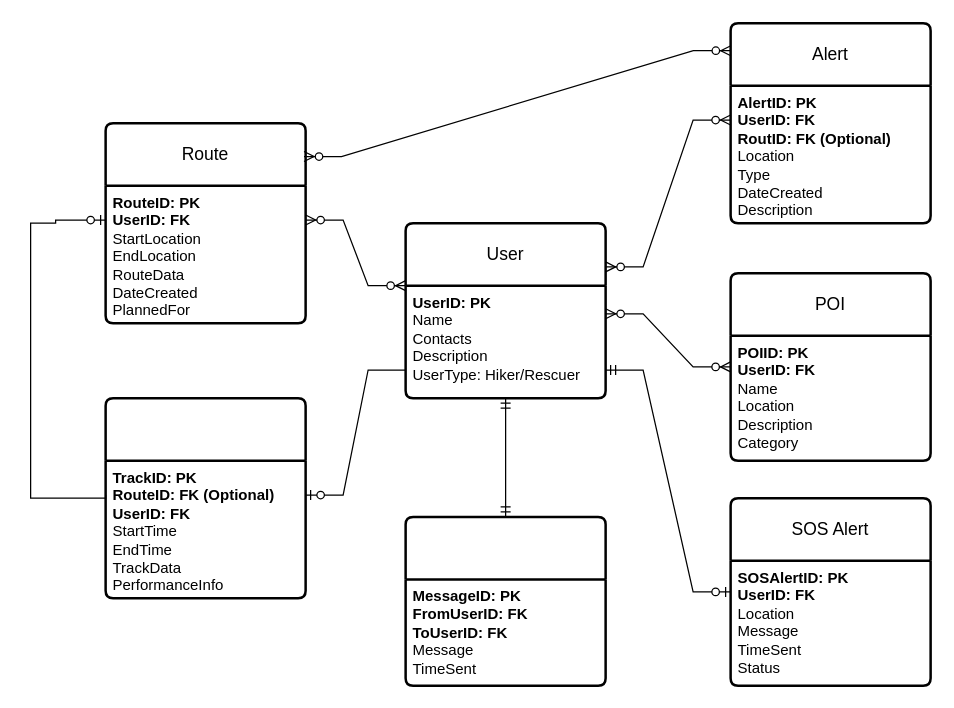
Image size: 954x708. Some labels were removed from this diagram. Here are the shapes that lost their labels. From the top down, the box of each, then its label:
(104, 396, 306, 599): LiveTrack
(404, 515, 606, 686): Communication
